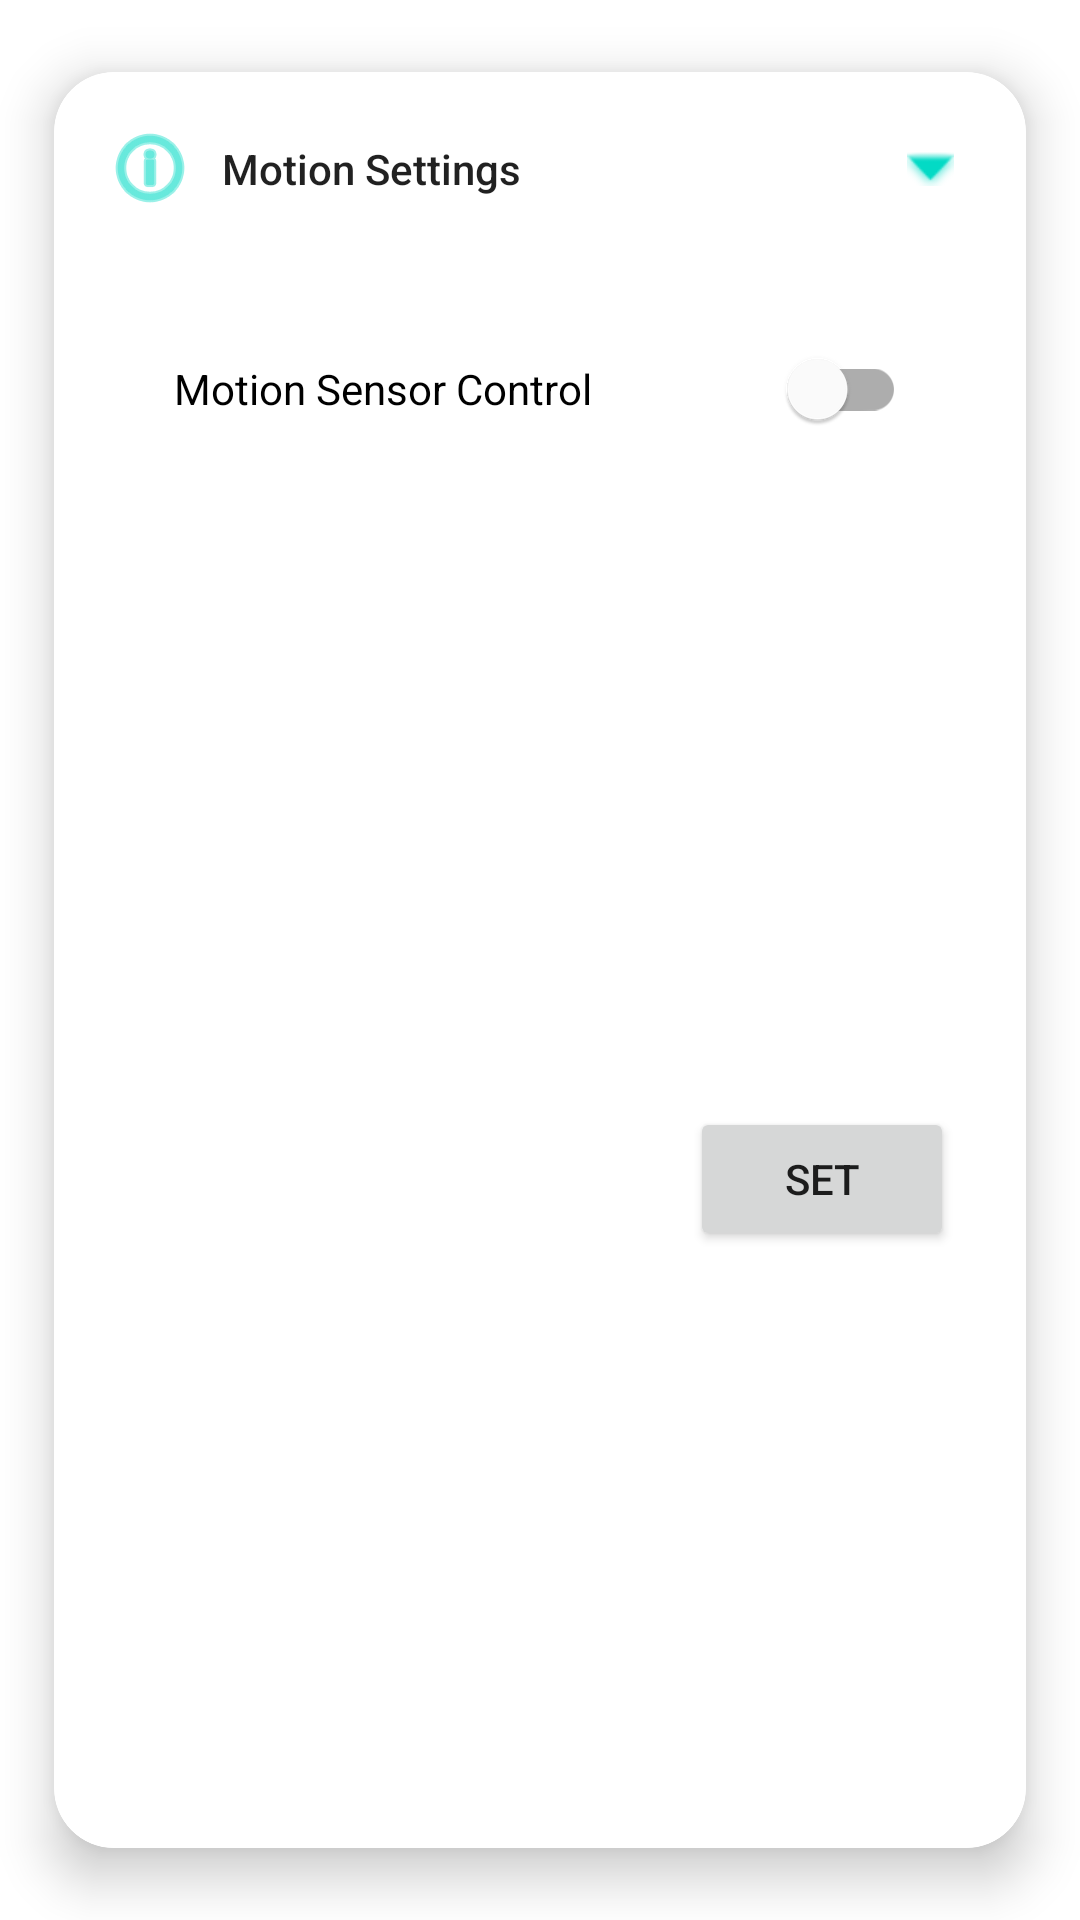

Icon click points for this 1080 × 1920 phone screenshot, format (x=x, y=y):
arrow down float: (x=930, y=169)
info details: (x=150, y=168)
